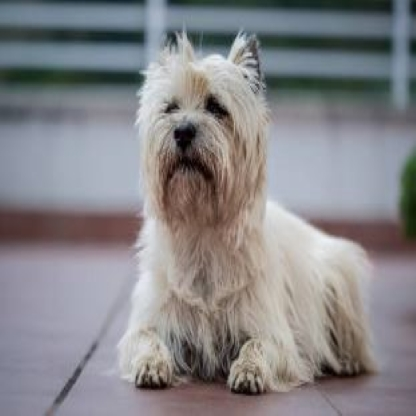maltese: (116, 25, 384, 392)
